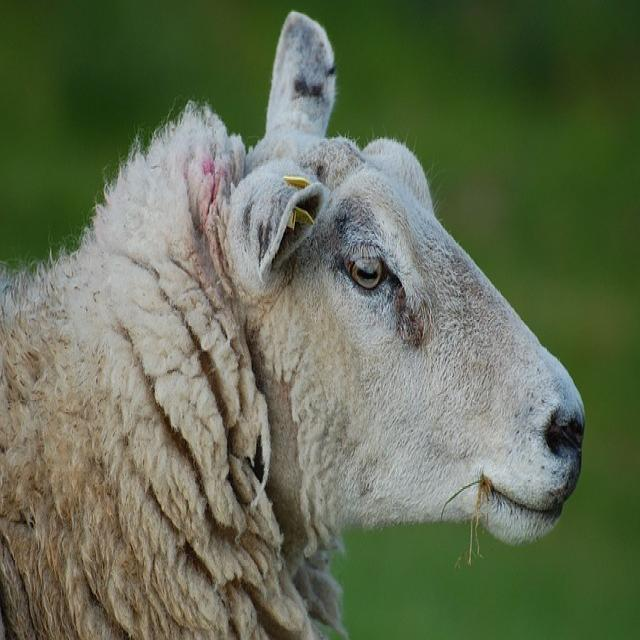goat: (0, 12, 587, 640)
